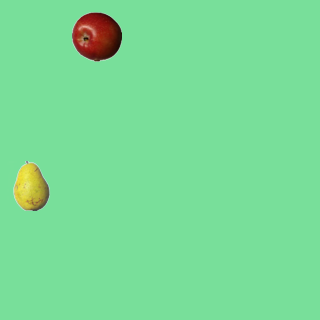Apple Braeburn: (71, 11, 121, 61)
Pear Monster: (6, 160, 56, 210)
